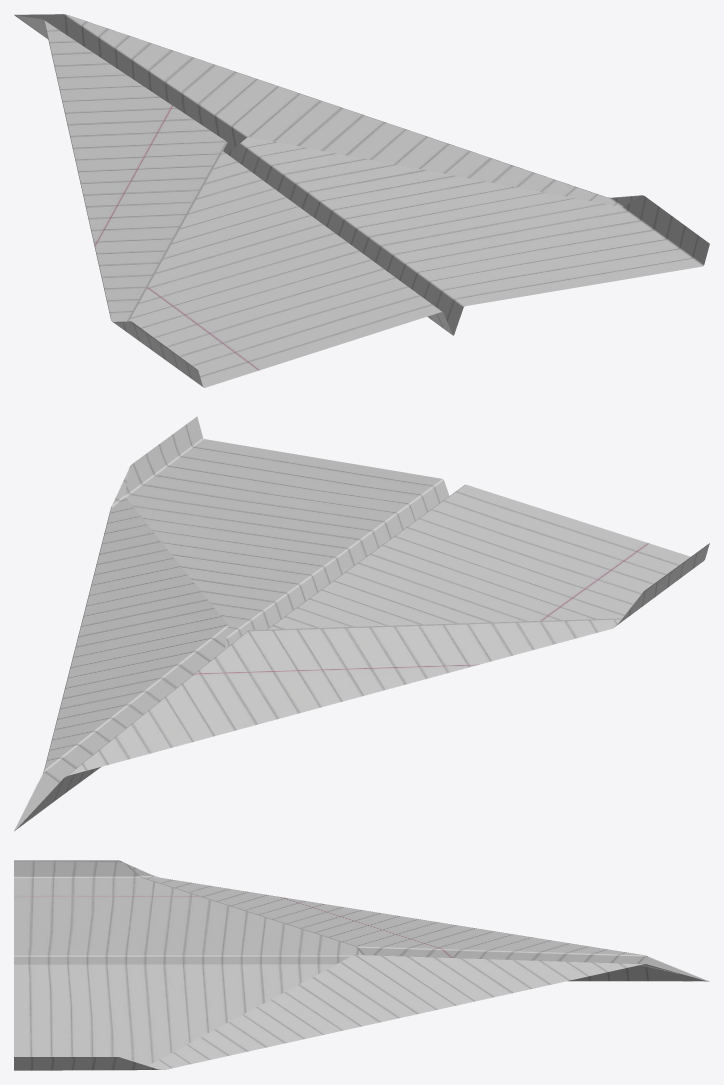
File: paper.glb
3 renders of one model, top to bottom at view 1: azimuth 30°, elevation 25°; view 2: azimuth 150°, elevation 25°; view 3: azimuth 270°, elevation 25°, orthographic. The views are drawn at different scales.
Visible parts, largest first — view 1: Object_4; view 2: Object_4; view 3: Object_4.
Boxes of the visible parts, bbox=[...] form: Object_4: bbox=[14, 14, 709, 387]; Object_4: bbox=[14, 416, 709, 831]; Object_4: bbox=[14, 860, 709, 1070].
Size of the model in its own units: 0.3976 by 0.0294 by 0.5914.
1 material, 1 textured.
